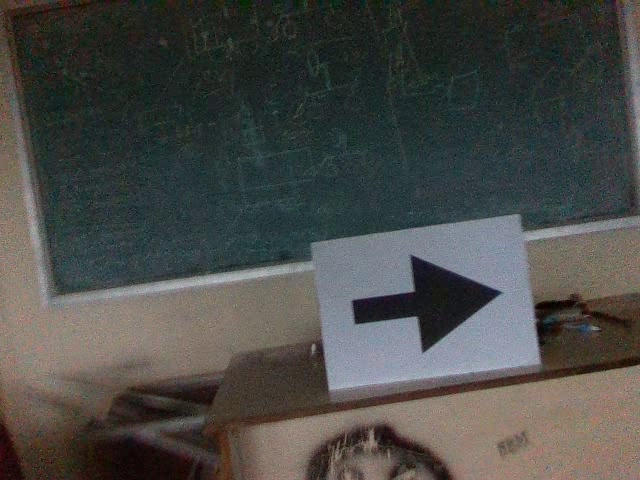Right: (350, 248, 505, 355)
